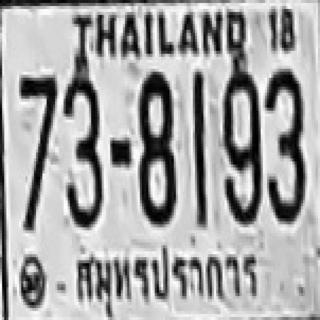N01: (192, 70, 205, 205)
N03: (61, 73, 102, 226), (263, 66, 303, 221)
N07: (19, 75, 55, 218)
N08: (138, 70, 174, 223)
N09: (222, 70, 261, 223)
P57: (67, 238, 264, 320)
